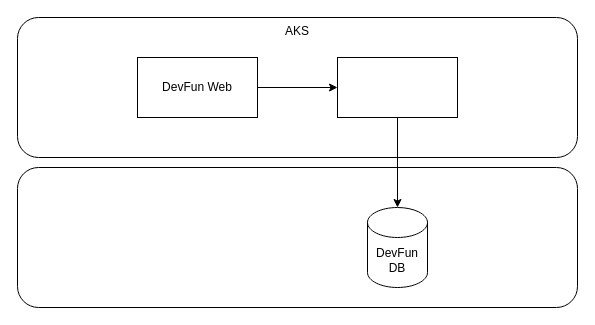
The diagram is 595 pixels wide and 325 high, and some of its shapes have lost their labels. The box of each missing label's shape, as (x1, y1, x2, y2) in pixels:
Azure SQL Elastic Pool: (16, 166, 578, 308)
DevFun Api: (336, 56, 458, 118)
